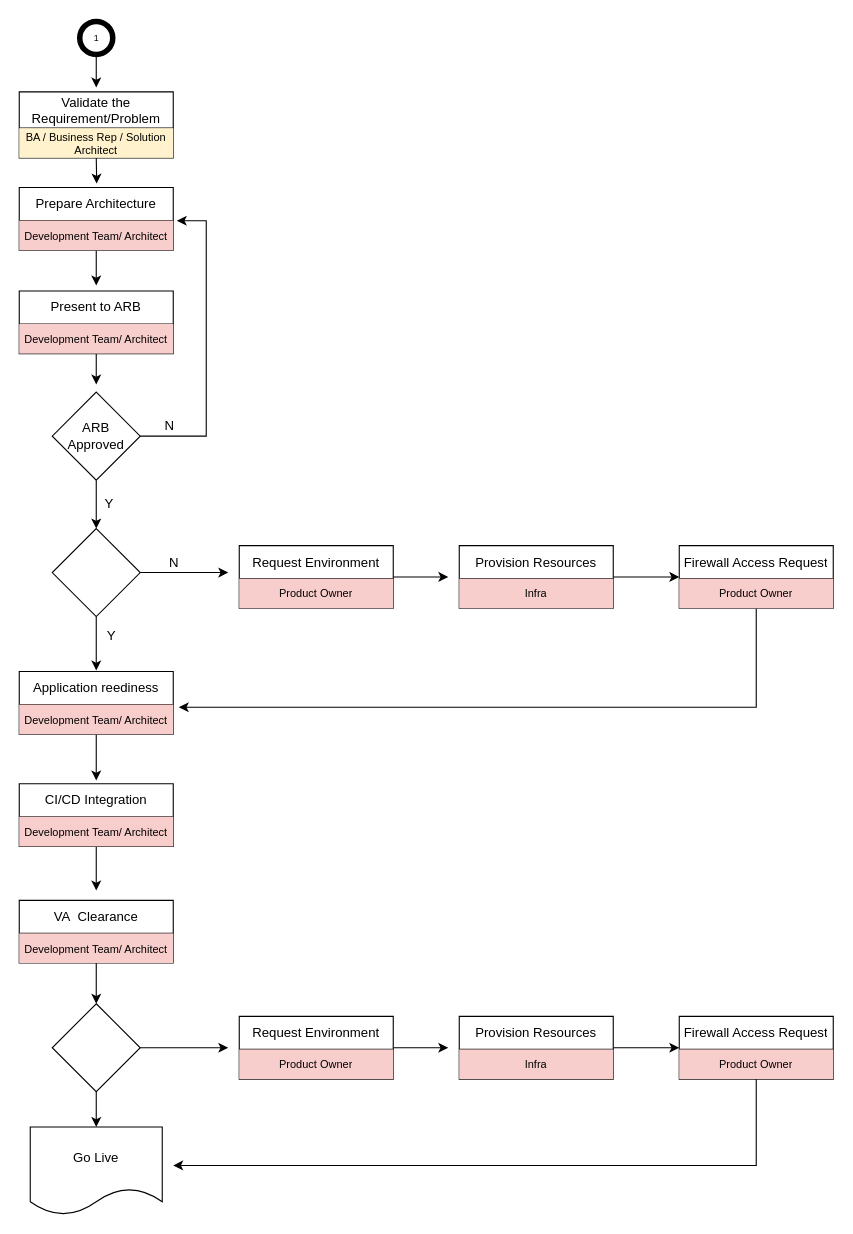
Some shapes in this 853 by 1234 pixel diagram are drawn without their labels. Here are the shapes that lost their labels. From the top down, the box of each, then its label:
(51, 527, 140, 617): Environment Exist
(51, 1003, 140, 1092): Live Environment Exist
